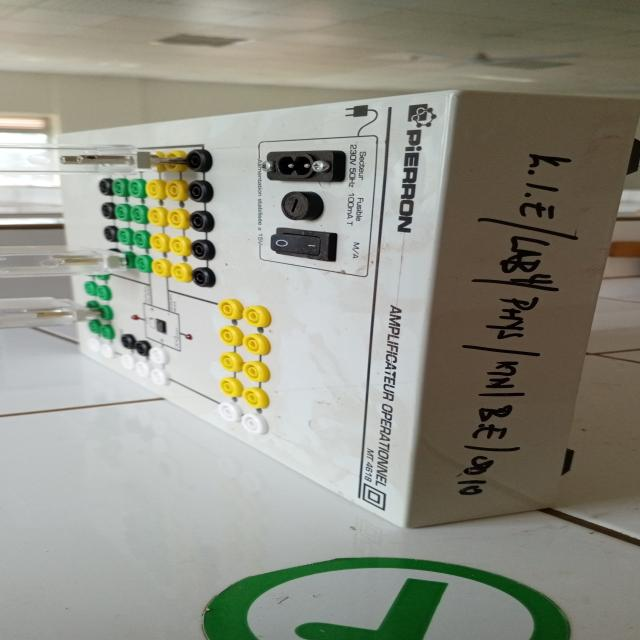Operational Amplifier Board: (21, 71, 640, 532)
